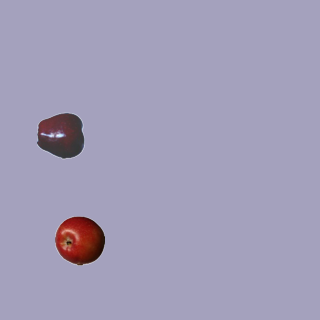Apple Braeburn: (54, 215, 104, 265)
Apple Red Delicious: (36, 110, 86, 160)
